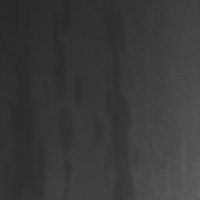inclusion: (99, 1, 136, 199), (1, 48, 38, 199), (50, 1, 77, 161), (57, 157, 76, 200)
